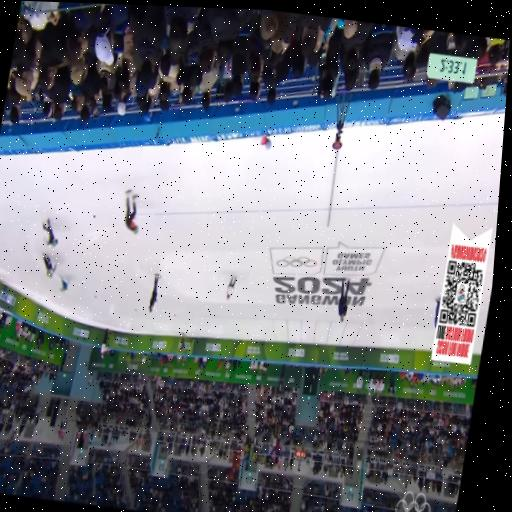Skater: (125, 190, 139, 233), (39, 252, 58, 279), (43, 218, 57, 246), (58, 274, 70, 293)
